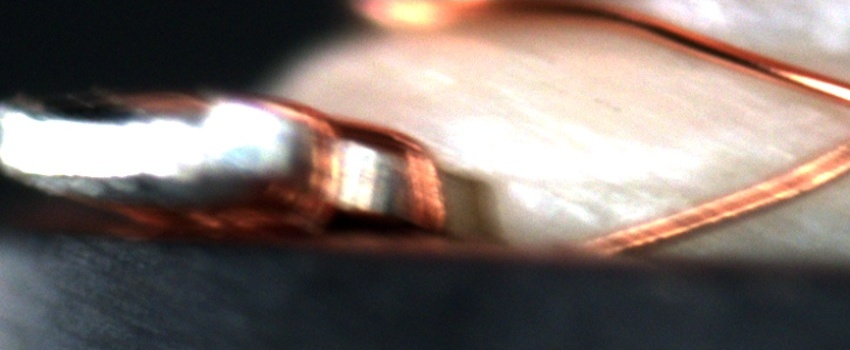TE: (134, 82, 457, 245)
